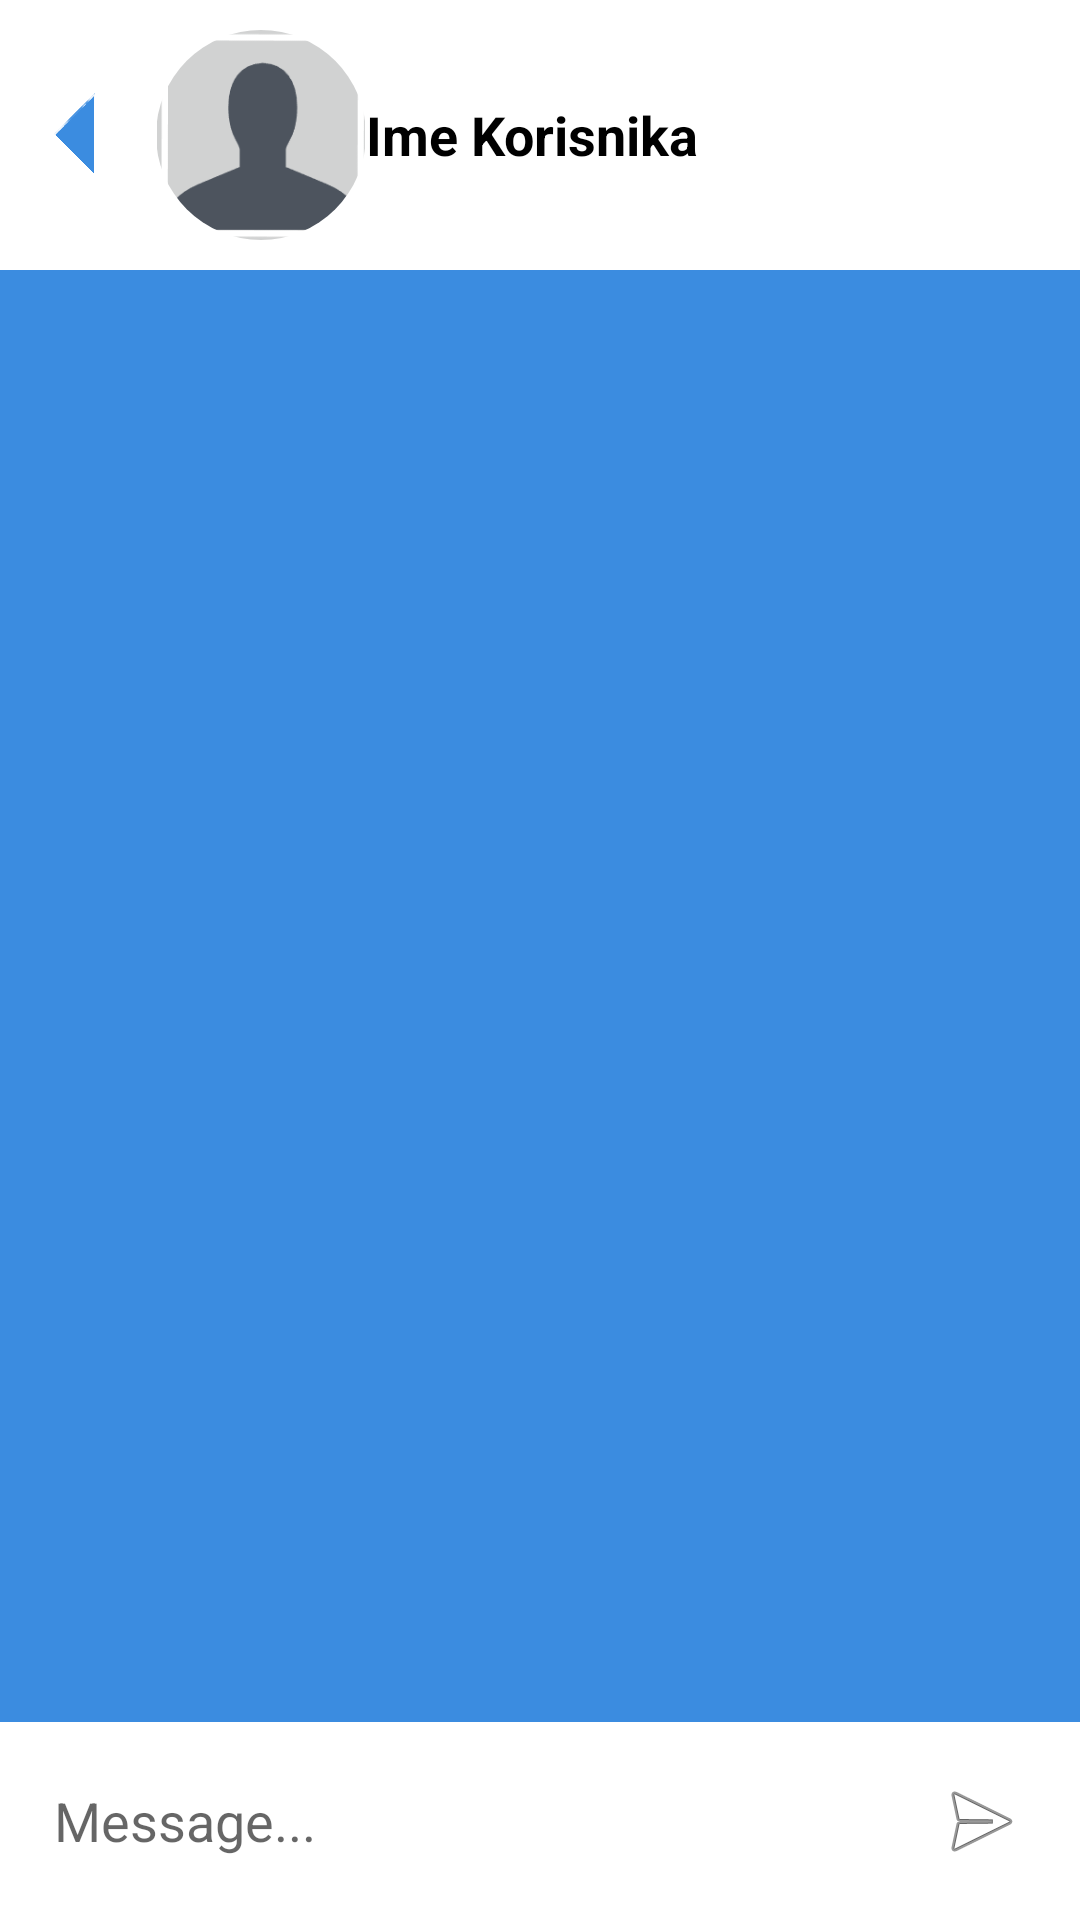

Icons on this 1080w x 1920h Android screen, each with its box as (left=x1, top=y1, right=x2, bottom=y2):
arrow: (left=55, top=93, right=95, bottom=173)
send: (left=951, top=1791, right=1013, bottom=1852)
user profile: (left=157, top=30, right=365, bottom=240)
